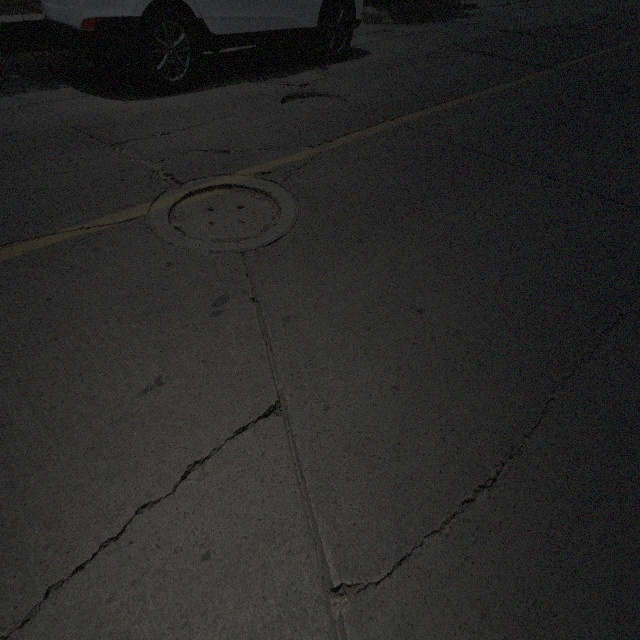pothole: (280, 92, 342, 108)
